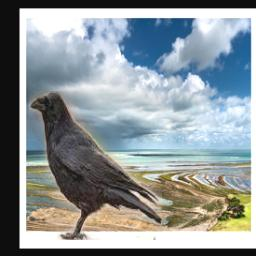Crow: (30, 92, 163, 241)
